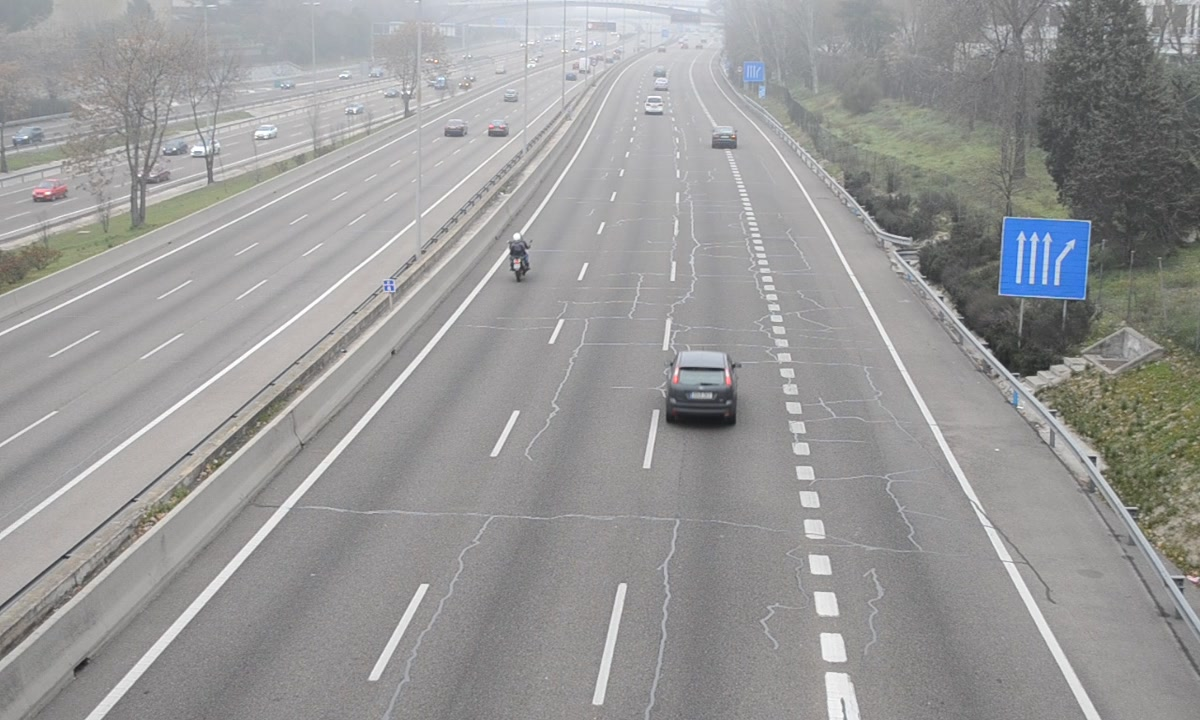car: (663, 352, 741, 429), (712, 127, 736, 149), (645, 96, 664, 116)
motorcycle: (505, 234, 532, 287)
